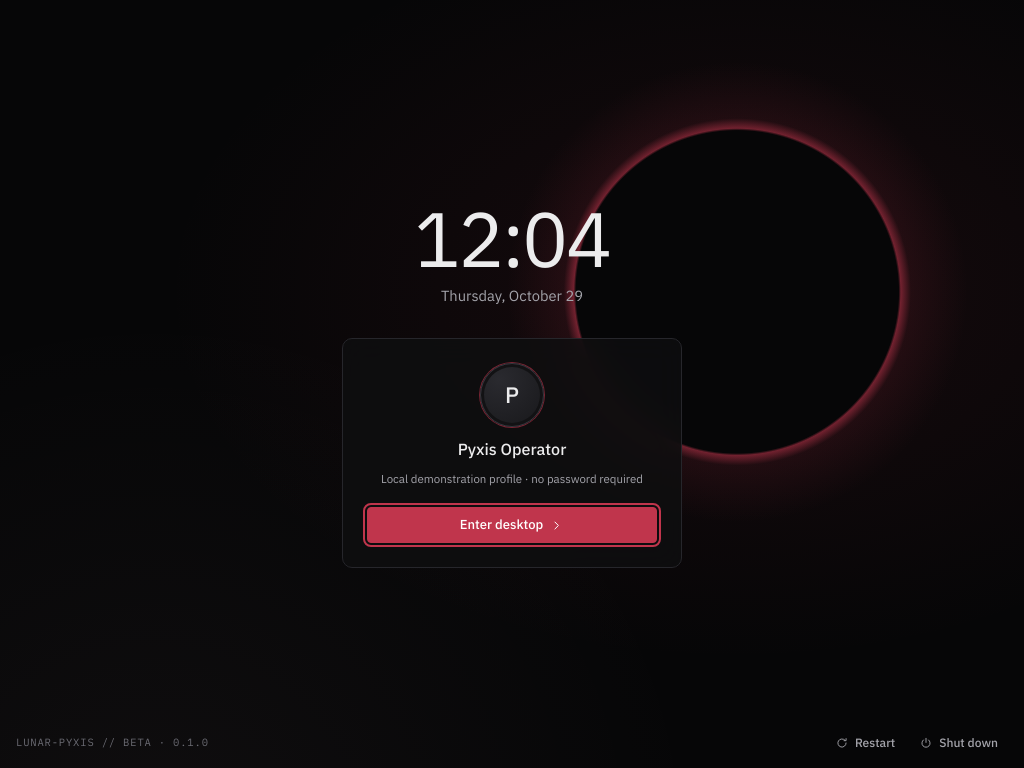
Test: desktop integration › launcher searches and opens applications
The image size is (1024, 768).
Click the button "Enter desktop": [512, 525] box [367,507,657,543]
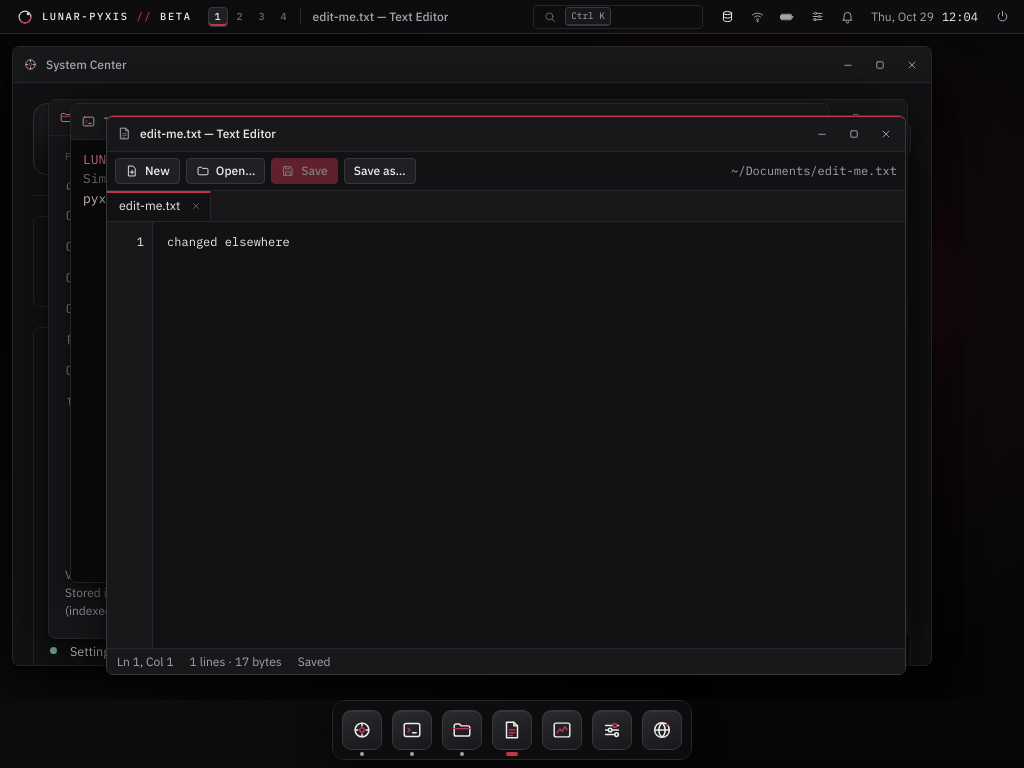
Check: the dialog "System Center" is shown
Press Space
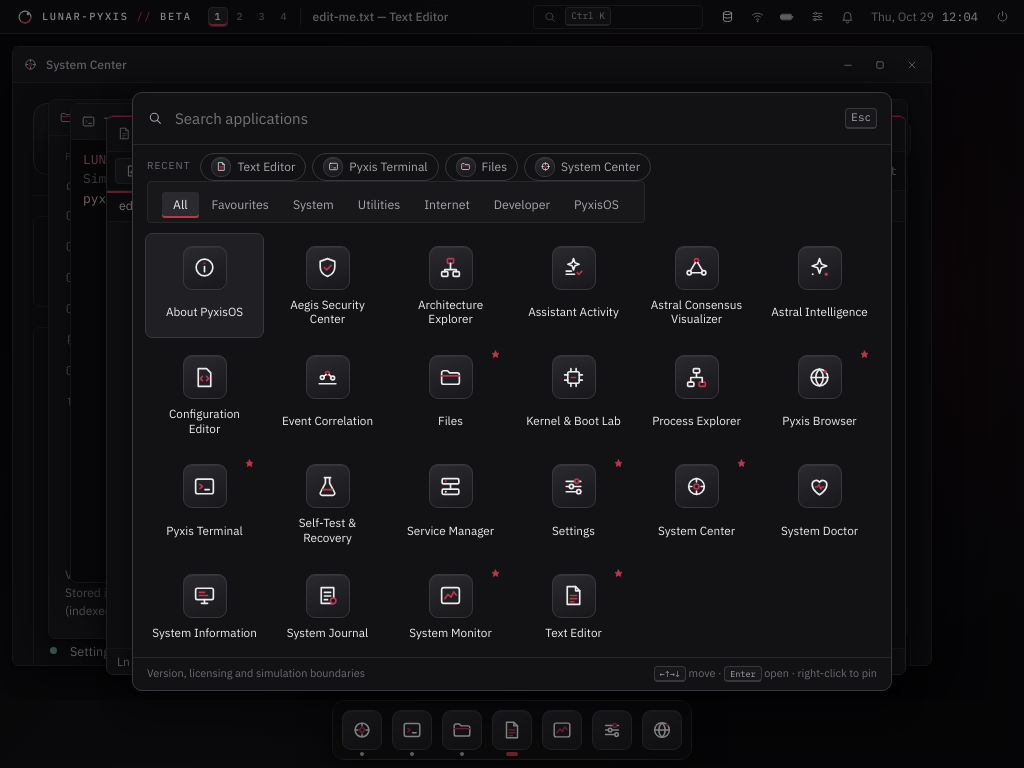
In the field labelled "Search applications": [504, 118] box [173,93,835,144], type "monitor"
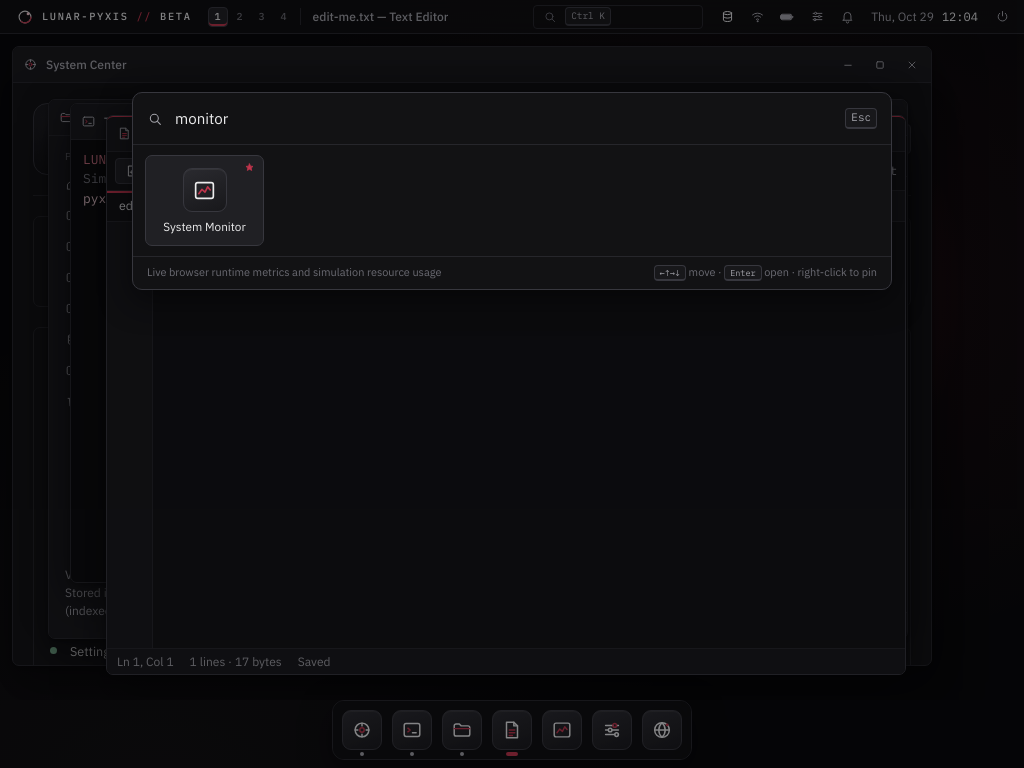
Press Enter in the field named "Search applications", box [173,93,835,144]
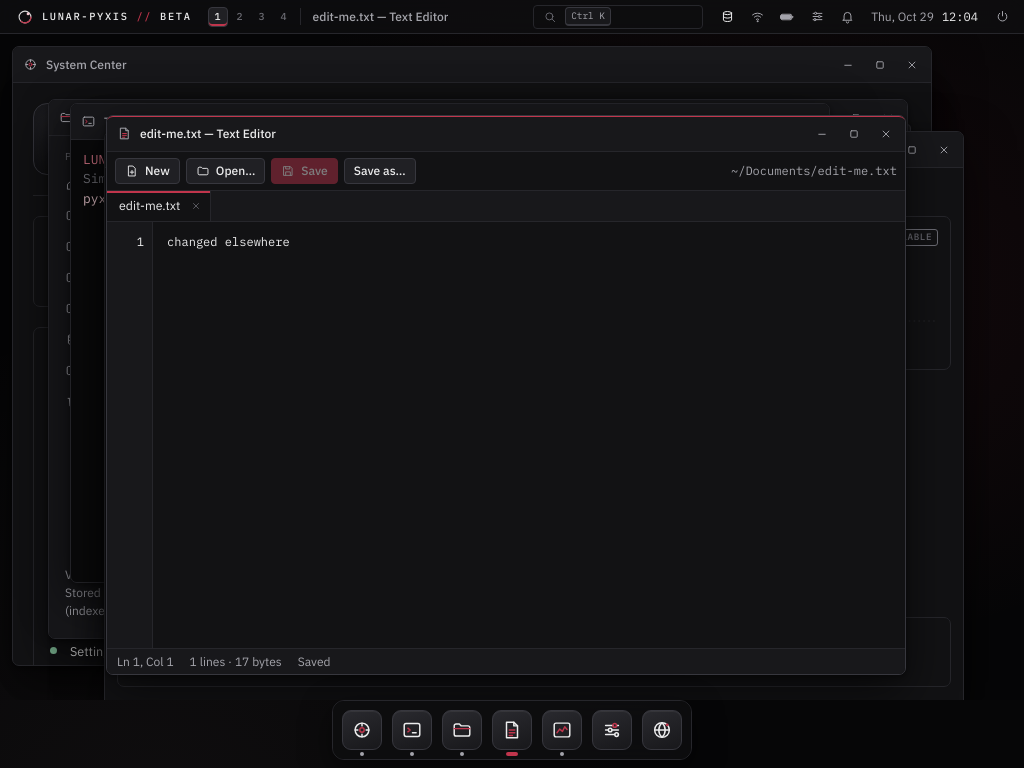
Check: the dialog "System Monitor" is shown
Check: the field labelled "Search applications" is gone
